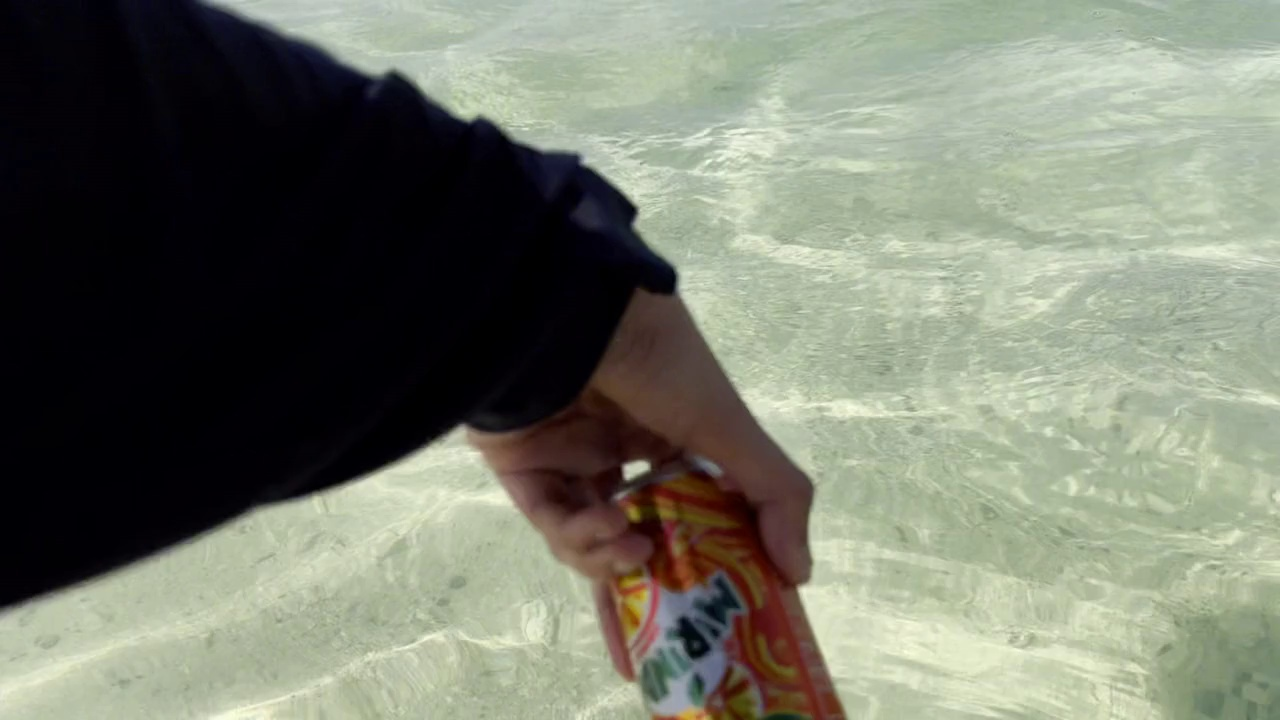debris: (577, 455, 839, 720)
